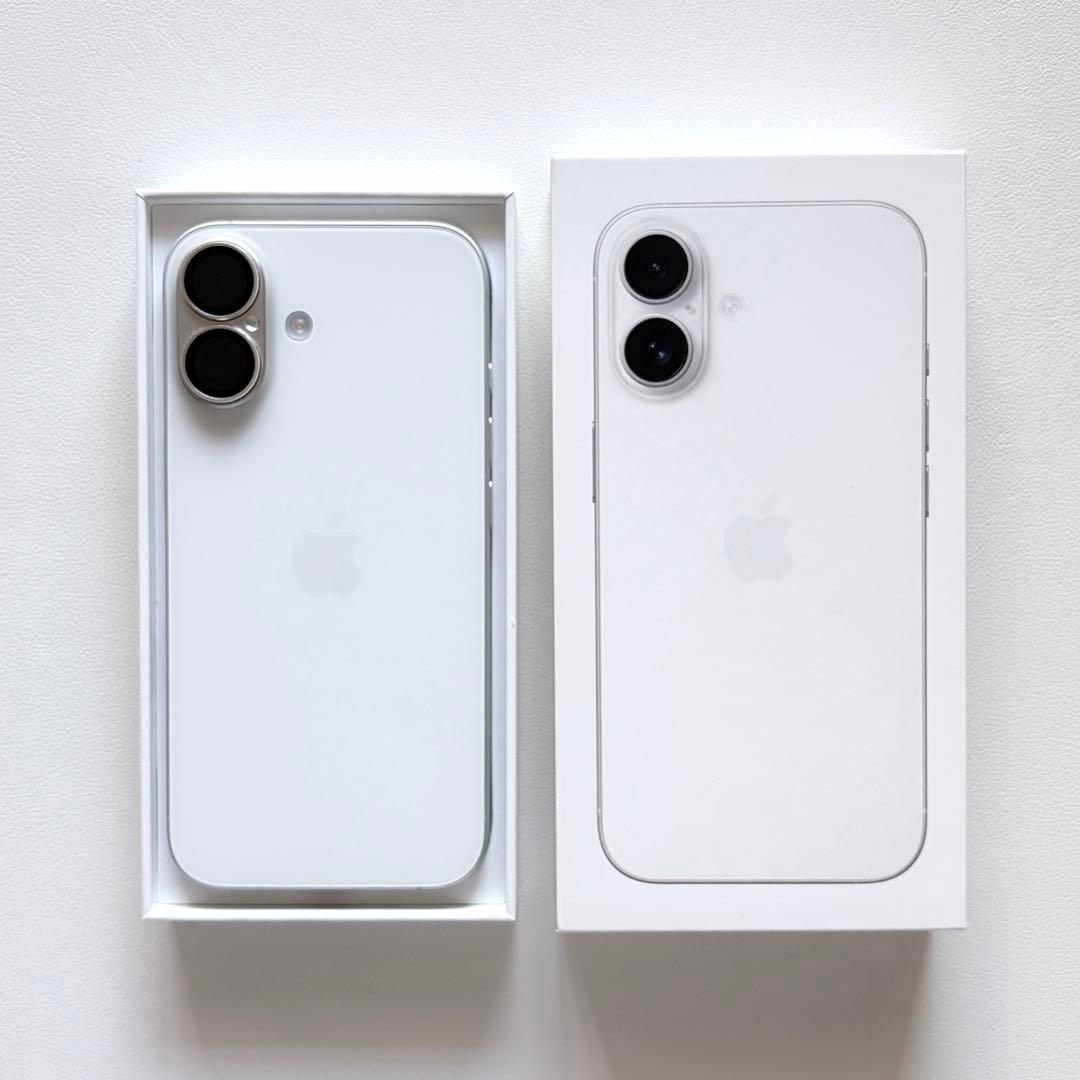iphone16_white: (147, 201, 512, 900), (163, 225, 338, 418)
